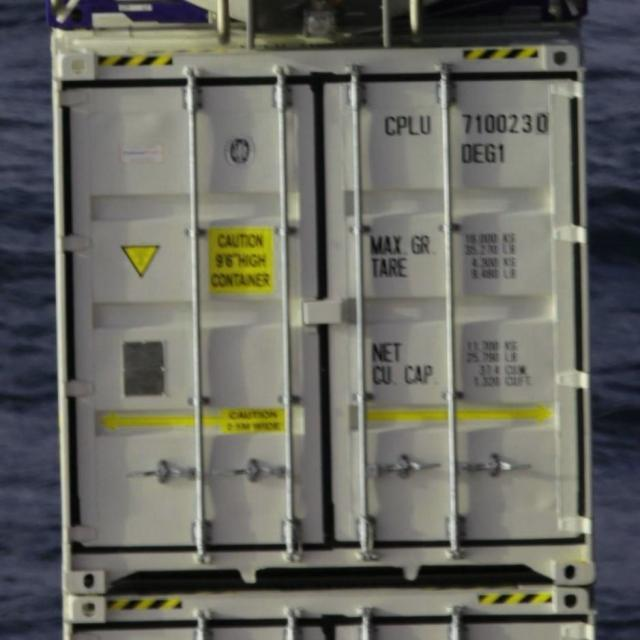ISO: (461, 140, 509, 166)
container_number: (384, 114, 549, 138)
